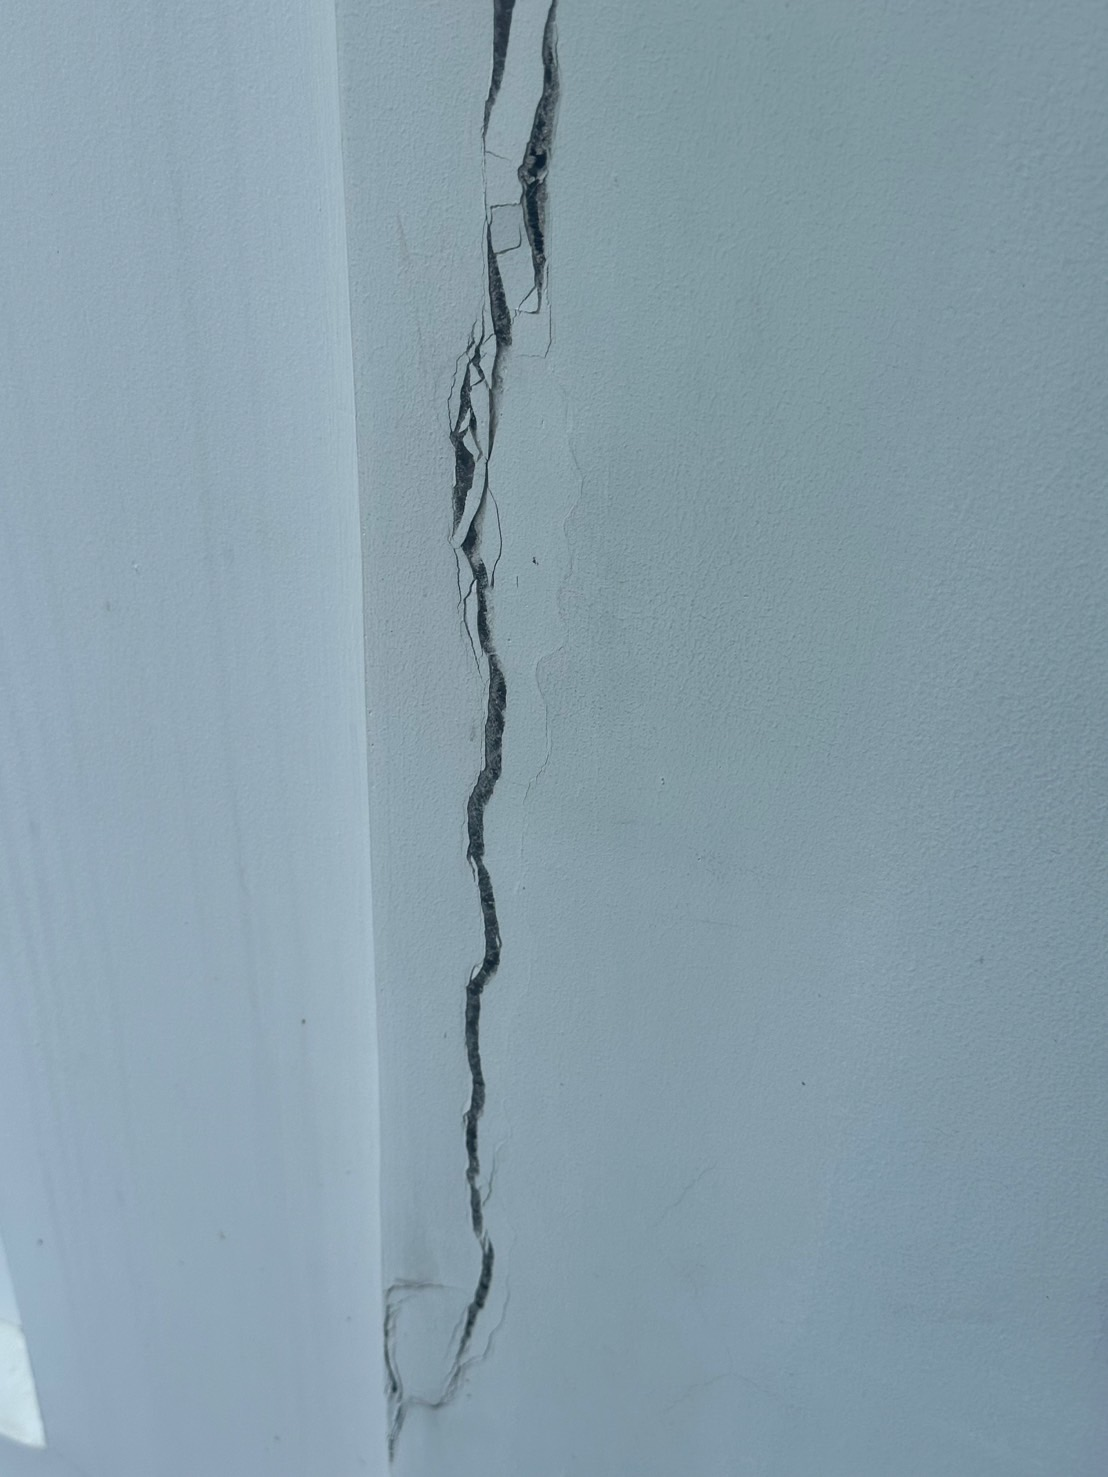Medium: (414, 99, 653, 1400)
